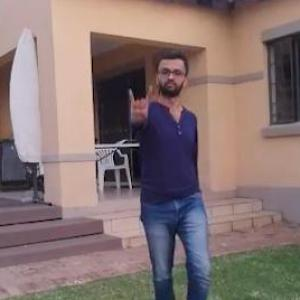takeoff-hand: (124, 79, 157, 128)
